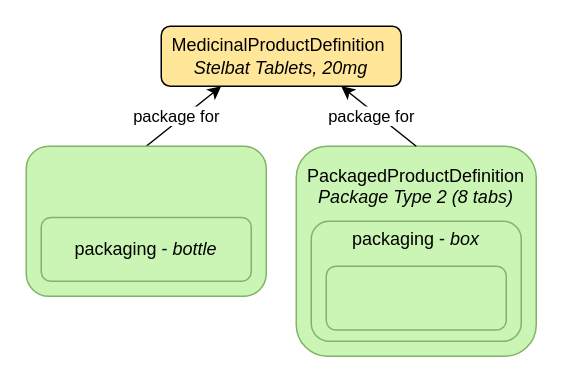
Some shapes in this 563 by 383 pixel diagram are drawn without their labels. The box of each missing label's shape, as (x1, y1, x2, y2) in pixels:
PackagedProductDefinition Package Type 1 (24 tabs): (25, 145, 266, 296)
packaging - foil strip: (325, 265, 506, 330)
